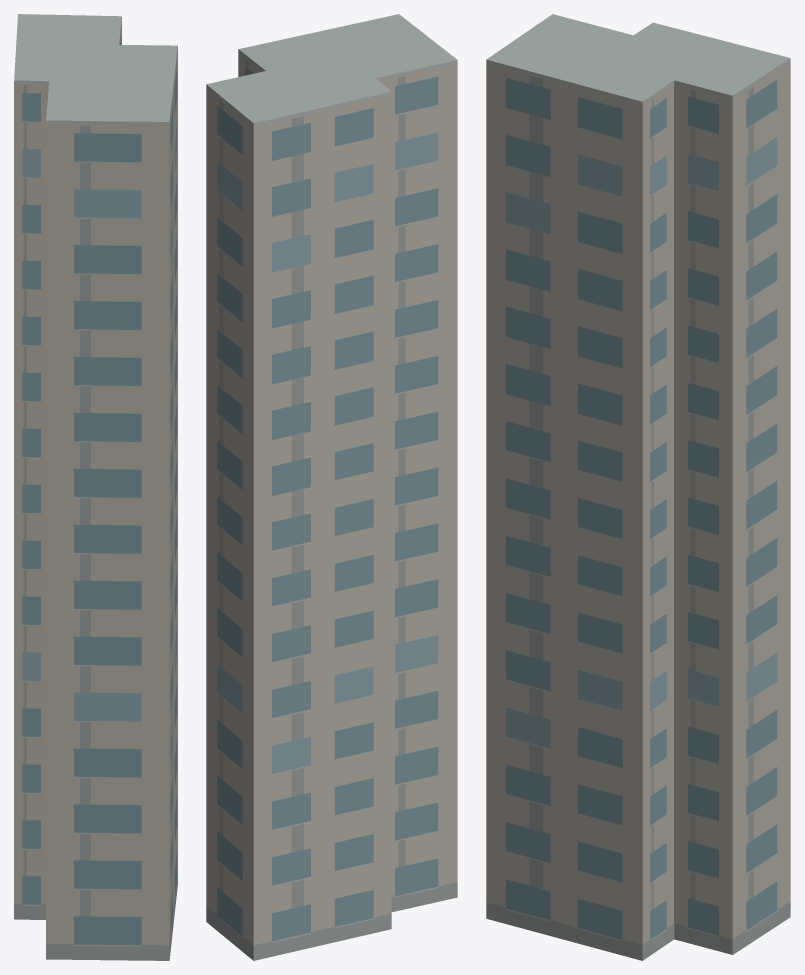
File: survey-upis-32736604.glb
3 views of the same model, side by side, from view 1: azimuth 30°, elevation 25°; view 2: azimuth 150°, elevation 25°; view 3: azimuth 270°, elevation 25° (orthographic). The views are drawn at different scales.
Visible parts, largest first — view 1: survey-upis-32736604.tmp; view 2: survey-upis-32736604.tmp; view 3: survey-upis-32736604.tmp.
Part boxes in pixels (x1,y1,x2,y2): survey-upis-32736604.tmp: [14, 14, 177, 960]; survey-upis-32736604.tmp: [206, 14, 457, 960]; survey-upis-32736604.tmp: [486, 14, 790, 960].
Size of the model in its own units: 10.03 by 45.75 by 14.69.
